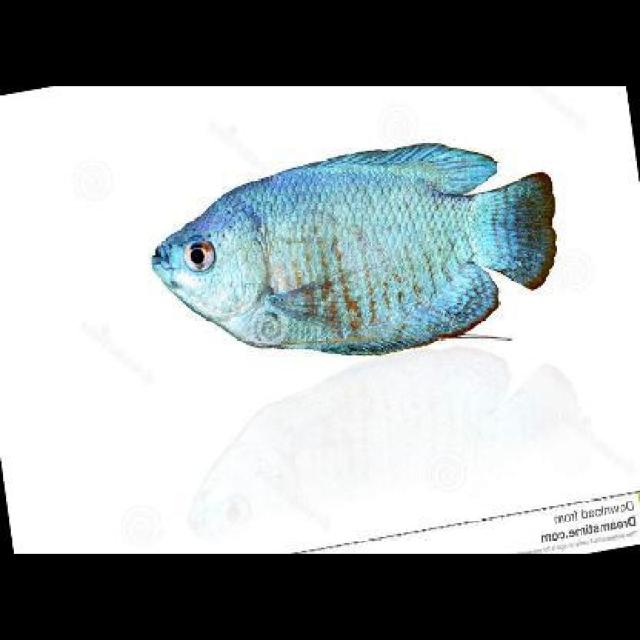Gourami: (152, 123, 559, 354)
